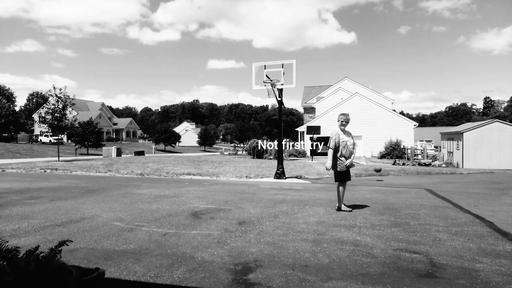ball: (373, 166, 382, 173)
human: (325, 112, 356, 212)
rim: (263, 80, 281, 98)
